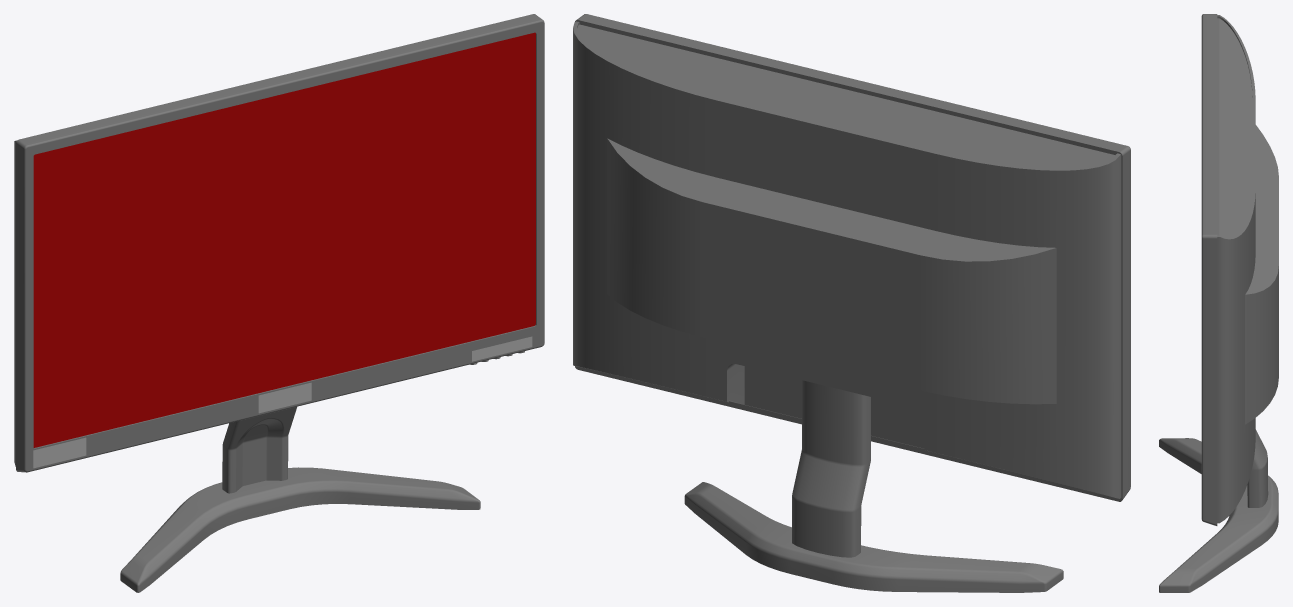
File: SM_Monitor.fbx
The picture shows the model from 3 angles, left to right: view 1: azimuth 30°, elevation 25°; view 2: azimuth 150°, elevation 25°; view 3: azimuth 270°, elevation 25°; orthographic projection. The views are drawn at different scales.
Parts seen in each view (by area): view 1: SM_Monitor; view 2: SM_Monitor; view 3: SM_Monitor.
Boxes of the visible parts, x1,y1,x2,y2 form: SM_Monitor: [14, 14, 544, 592]; SM_Monitor: [573, 14, 1130, 592]; SM_Monitor: [1159, 14, 1278, 592].
Bounding box in the file's own units: 88.13 × 72.84 × 20.04.
